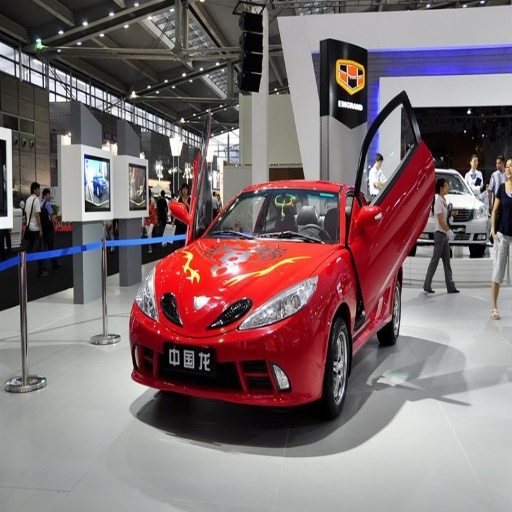back_bumper: (132, 316, 260, 397)
front_bumper: (243, 310, 325, 405)
front_glass: (195, 189, 326, 242), (37, 2, 132, 42)
front_left_light: (242, 282, 310, 326)
front_right_door: (23, 429, 82, 506)
trunk: (138, 305, 220, 346)
